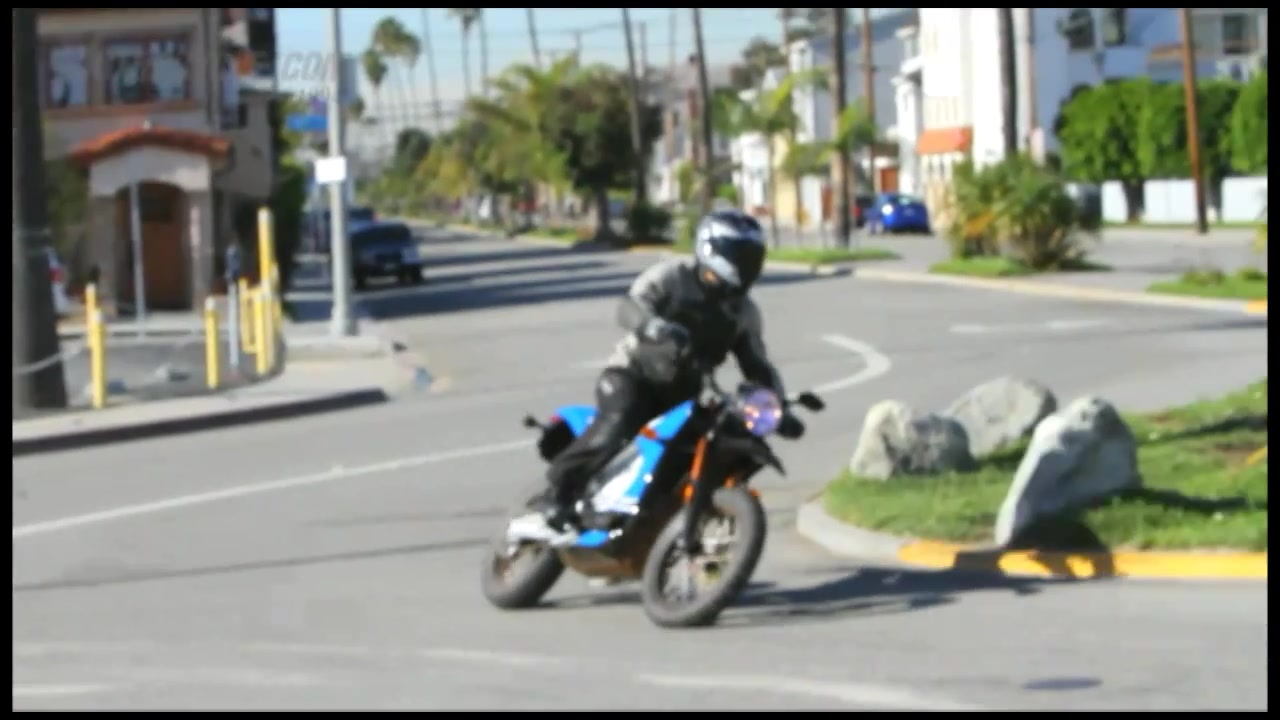motorbike: (482, 350, 833, 630)
